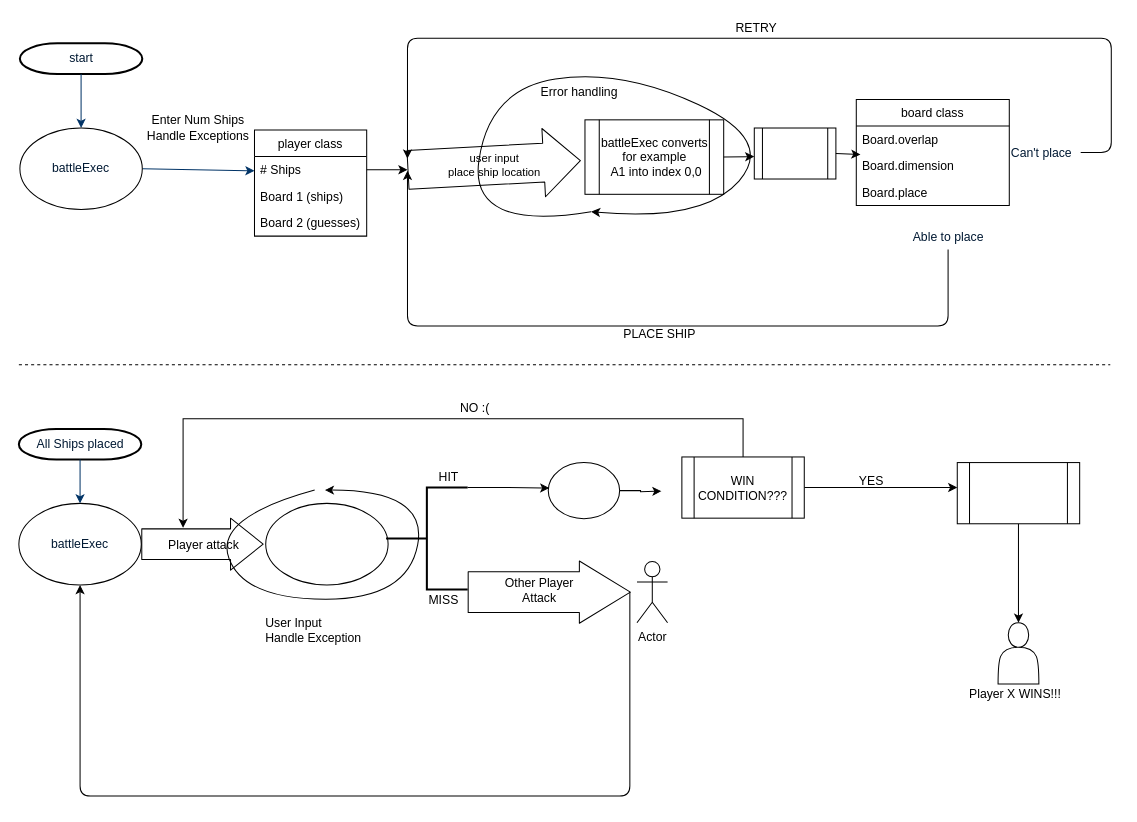
Image size: 1137x822. Some labels were removed from this diagram. Each missing label, with the centre of its shape:
"Check Board" goes at (326,543).
"GAME OVER" goes at (1018,493).
"placeShips() method" goes at (794,153).
"Update Board" goes at (583,490).
